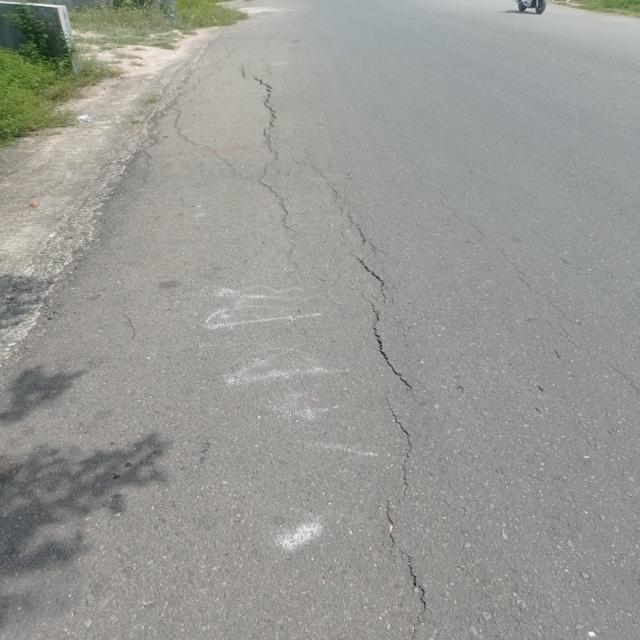Memanjang: (339, 194, 445, 640), (230, 51, 316, 260)
